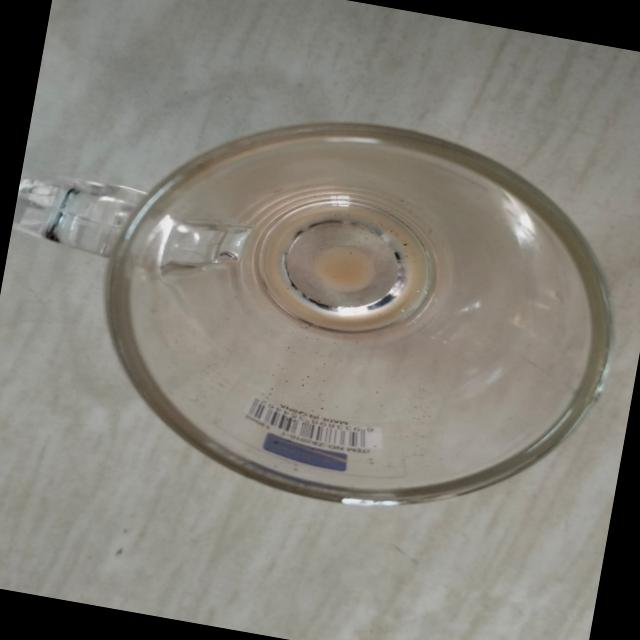glass-VX4N: (0, 65, 640, 547)
